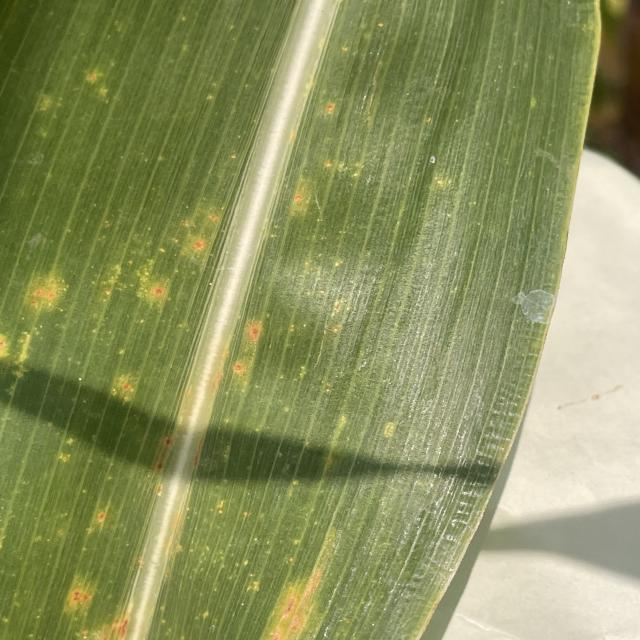millet_rust: (6, 0, 597, 637)
